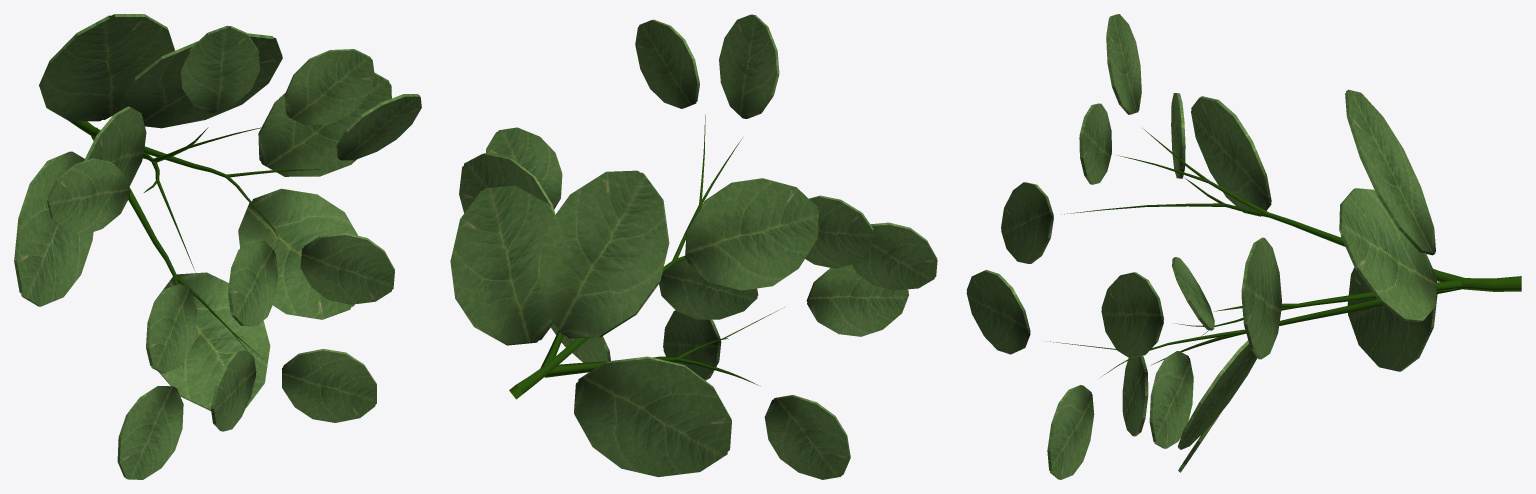
The model's file is plant12.obj.
3 views of the same model, side by side, from view 1: azimuth 30°, elevation 25°; view 2: azimuth 150°, elevation 25°; view 3: azimuth 270°, elevation 25° (orthographic). The views are drawn at different scales.
Visible parts, largest first — view 1: leaves.018, tree.018; view 2: leaves.018, tree.018; view 3: leaves.018, tree.018.
Part boxes in pixels (x1=…): leaves.018: x1=14, y1=14, x2=421, y2=479; tree.018: x1=69, y1=121, x2=322, y2=369; leaves.018: x1=450, y1=14, x2=937, y2=479; tree.018: x1=509, y1=115, x2=784, y2=399; leaves.018: x1=966, y1=14, x2=1437, y2=479; tree.018: x1=1047, y1=128, x2=1521, y2=377.
Size of the model in its own units: 0.1878 by 0.2076 by 0.2307.
Materials: 2 (2 with a texture image).
